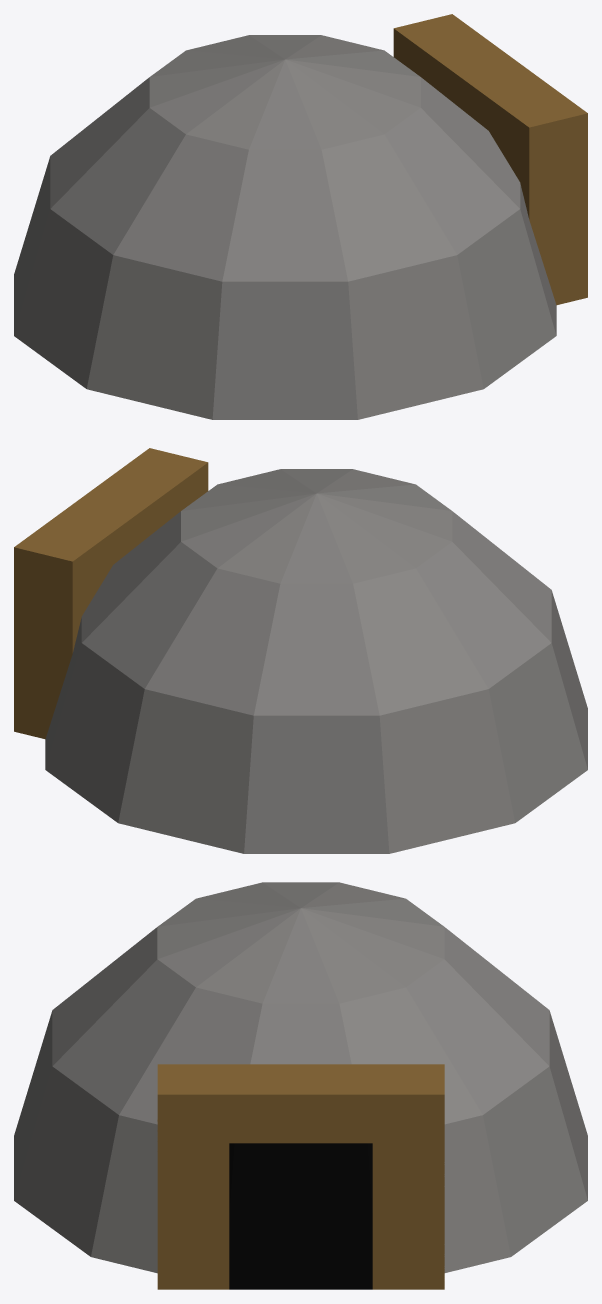
The model's file is mine.obj.
3 views of the same model, one above another, from view 1: azimuth 30°, elevation 25°; view 2: azimuth 150°, elevation 25°; view 3: azimuth 270°, elevation 25° (orthographic). The views are drawn at different scales.
Parts seen in each view (by area): view 1: sphere, cuboid; view 2: sphere, cuboid; view 3: sphere, cuboid.
Part boxes in pixels (x1,y1,x2,y2): sphere: (14,35,556,419); cuboid: (393,14,587,305); sphere: (45,469,587,853); cuboid: (14,448,208,739); sphere: (14,882,587,1289); cuboid: (157,1064,444,1289).
Size of the model in its own units: 1 by 0.5 by 1.
Materials: 2 (2 with a texture image).
